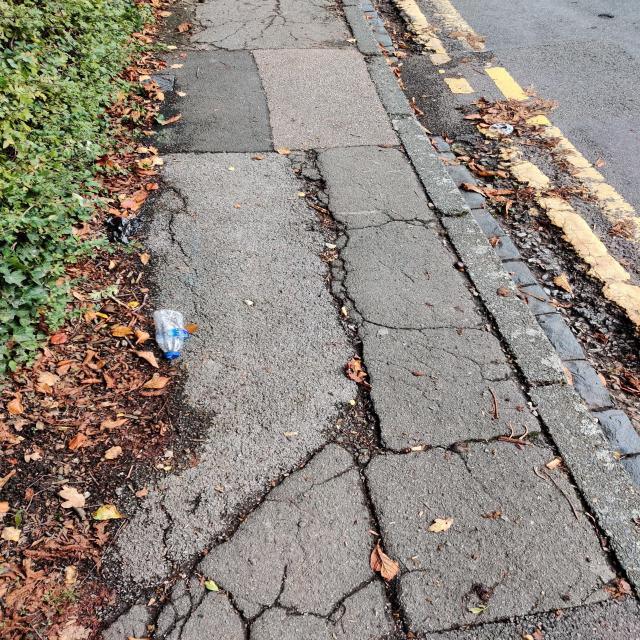litter: (145, 307, 189, 359)
